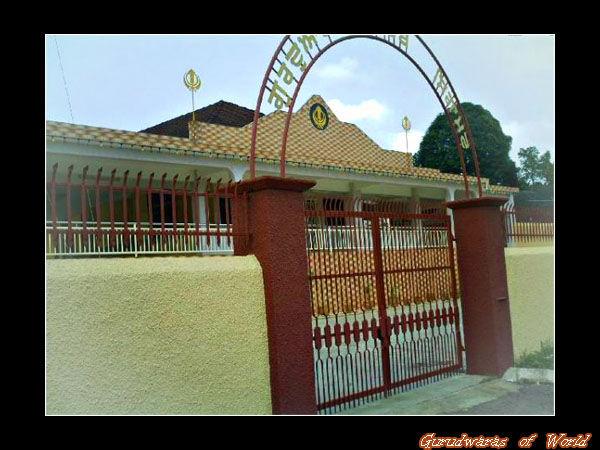Gurdwara: (52, 40, 517, 361)
